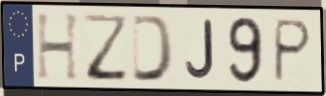9: (226, 14, 266, 86)
D: (130, 13, 177, 84)
H: (34, 11, 84, 83)
J: (183, 18, 217, 82)
P: (271, 17, 314, 85)
Z: (82, 12, 131, 84)
